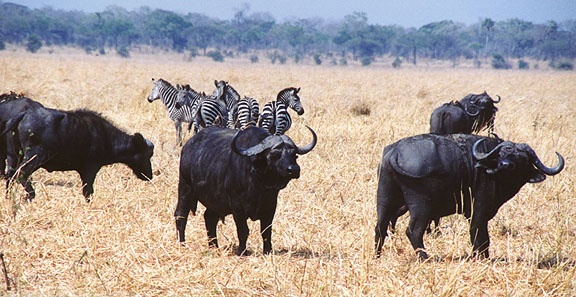buffalo: (365, 131, 564, 260), (172, 124, 318, 254), (7, 108, 154, 209), (458, 91, 501, 131), (429, 102, 479, 134)
zebra: (147, 75, 196, 136), (173, 79, 225, 130), (256, 83, 304, 132), (210, 78, 256, 128)
